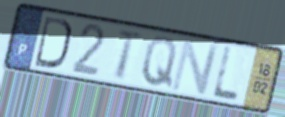2: (68, 22, 106, 77)
D: (32, 14, 73, 72)
L: (210, 45, 241, 104)
N: (169, 38, 222, 97)
Q: (139, 34, 179, 90)
T: (114, 27, 144, 83)
